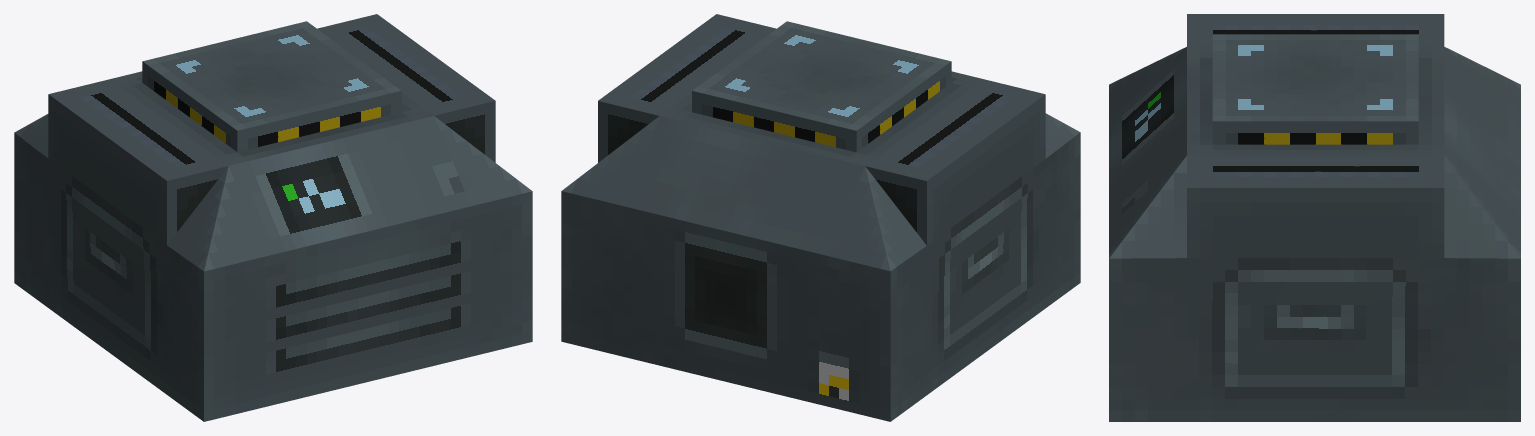
The model's file is inscriber.obj.
3 renders of one model, left to right at view 1: azimuth 30°, elevation 25°; view 2: azimuth 150°, elevation 25°; view 3: azimuth 270°, elevation 25°, orthographic. The views are drawn at different scales.
Parts seen in each view (by area): view 1: base; view 2: base; view 3: base.
Part boxes in pixels (x1=…): base: x1=14, y1=14, x2=532, y2=421; base: x1=561, y1=14, x2=1080, y2=421; base: x1=1109, y1=14, x2=1520, y2=421.
Bounding box in the file's own units: 1 × 0.6875 × 1.
